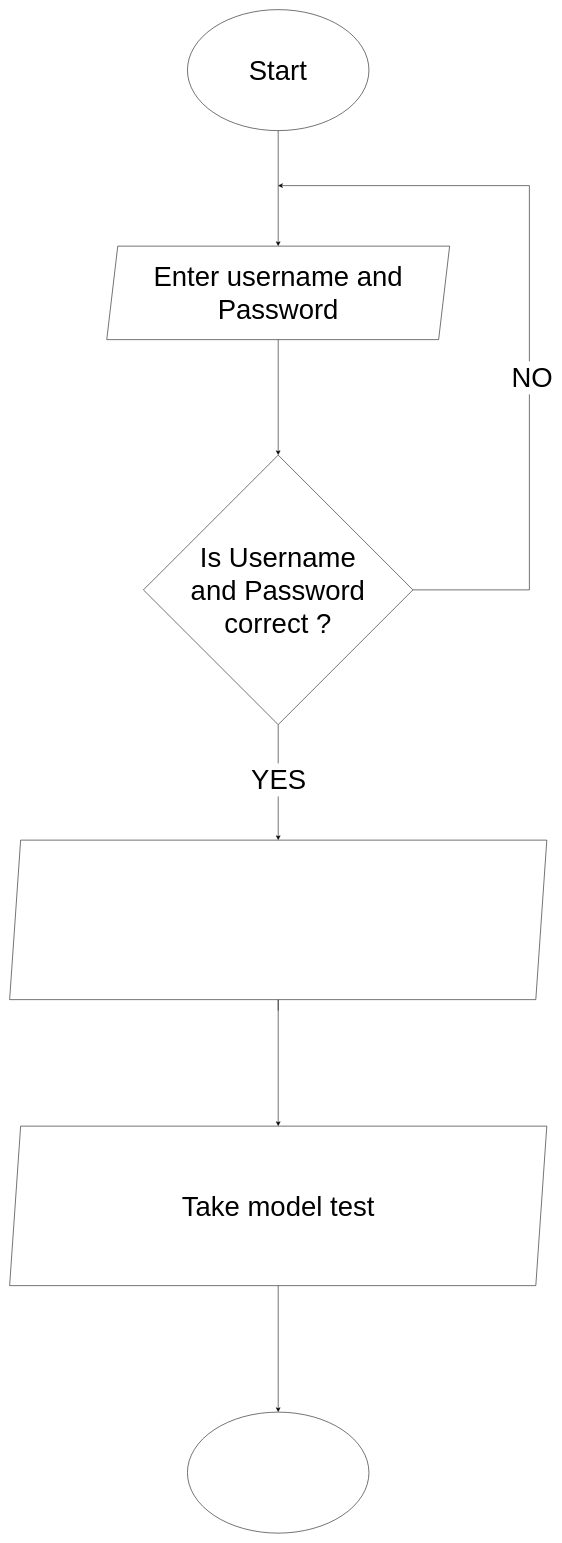
This 562x1543 diagram has some shape labels left out. Each missing label, with the centre of its shape:
"Choose programme (BCA, BIT, etc)" goes at (x=278, y=920).
"Stop" goes at (x=278, y=1472).
